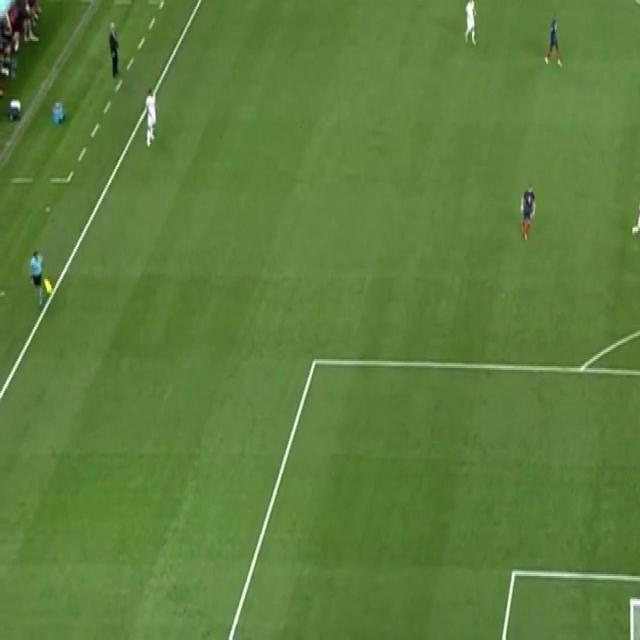player-white: (26, 244, 47, 312), (518, 178, 538, 247), (544, 9, 564, 70), (142, 85, 158, 151), (629, 188, 640, 258), (463, 0, 479, 48)
